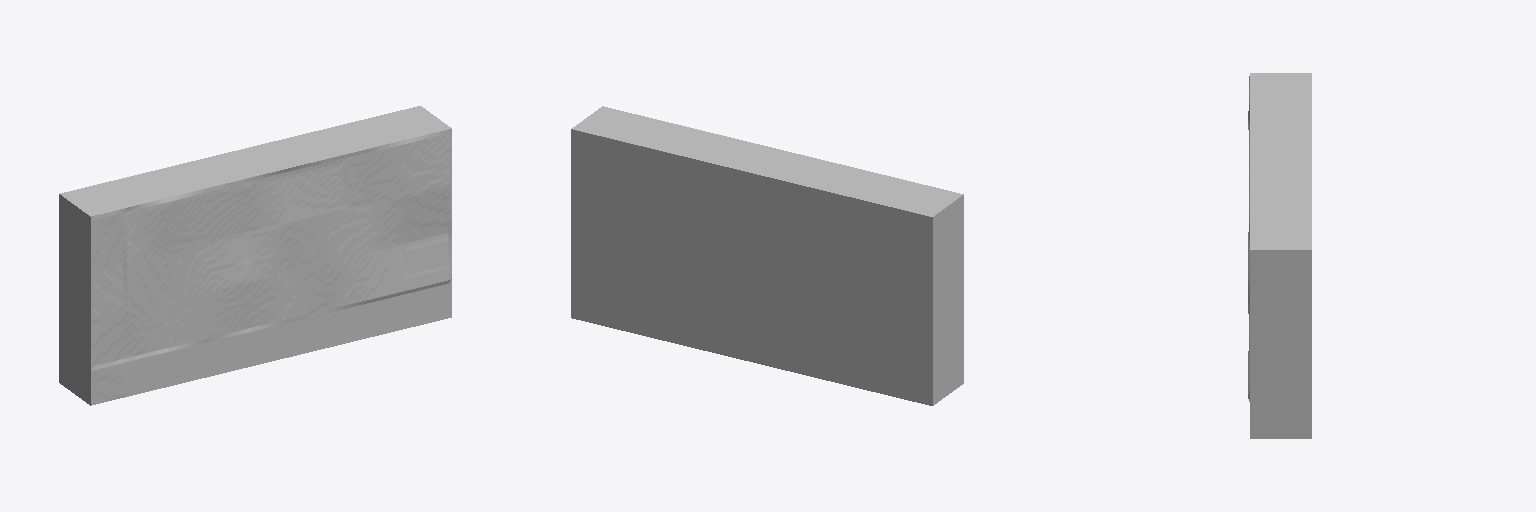
Rendered from rectangular_prism_bumps_9_4.obj.
3 views of the same model, side by side, from view 1: azimuth 30°, elevation 25°; view 2: azimuth 150°, elevation 25°; view 3: azimuth 270°, elevation 25° (orthographic).
Size of the model in its own units: 10 by 5 by 1.54.